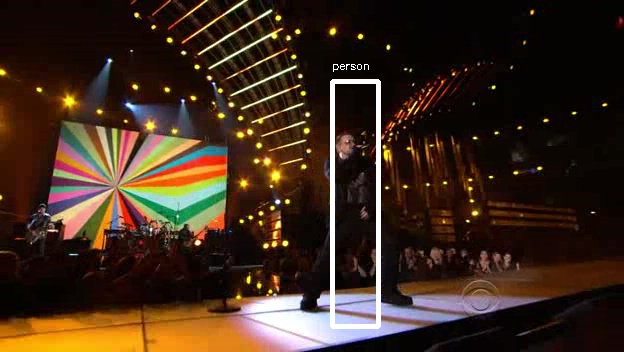person: (324, 134, 389, 252), (321, 134, 386, 252), (327, 134, 392, 252), (324, 131, 389, 249), (324, 137, 389, 255)
target_negative: (437, 90, 479, 195), (591, 67, 621, 157), (599, 148, 615, 308), (480, 243, 614, 257), (262, 299, 391, 307)
